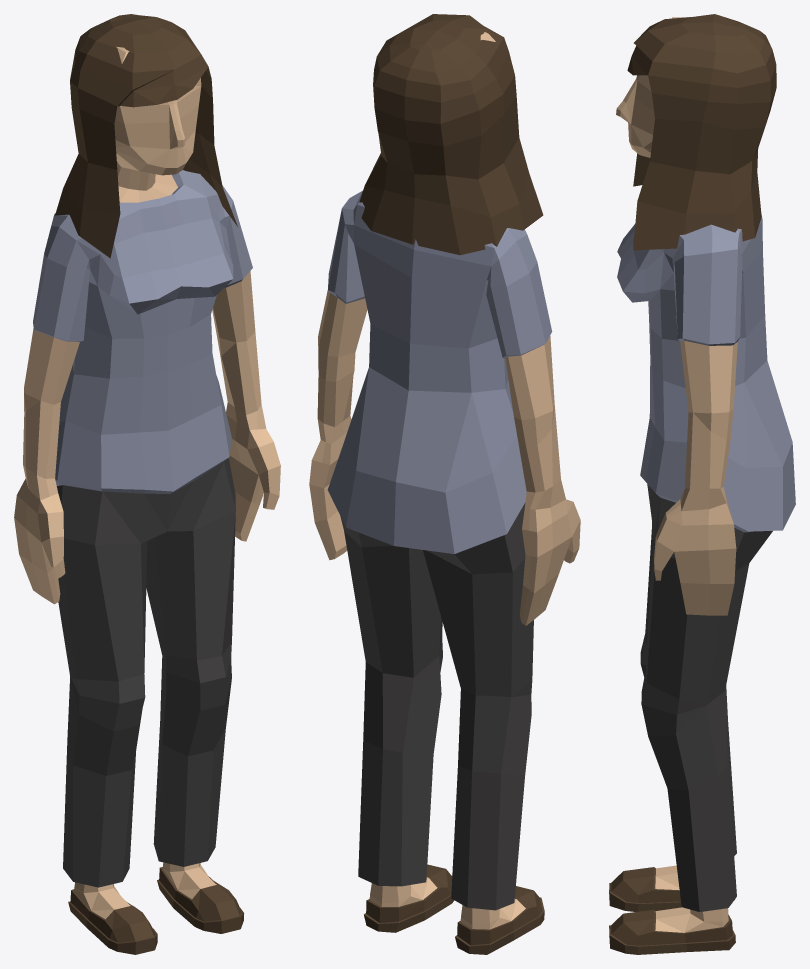
Rendered from Female_Standing.glb.
3 renders of one model, left to right at view 1: azimuth 30°, elevation 25°; view 2: azimuth 150°, elevation 25°; view 3: azimuth 270°, elevation 25°, orthographic. The views are drawn at different scales.
Parts seen in each view (by area): view 1: Female_Standing; view 2: Female_Standing; view 3: Female_Standing.
Boxes of the visible parts, box(x1,y1,x2,y2) form: Female_Standing: box(14, 14, 280, 954); Female_Standing: box(309, 14, 580, 954); Female_Standing: box(609, 14, 795, 954).
Bounding box in the file's own units: 0.4545 × 1.67 × 0.3136.
